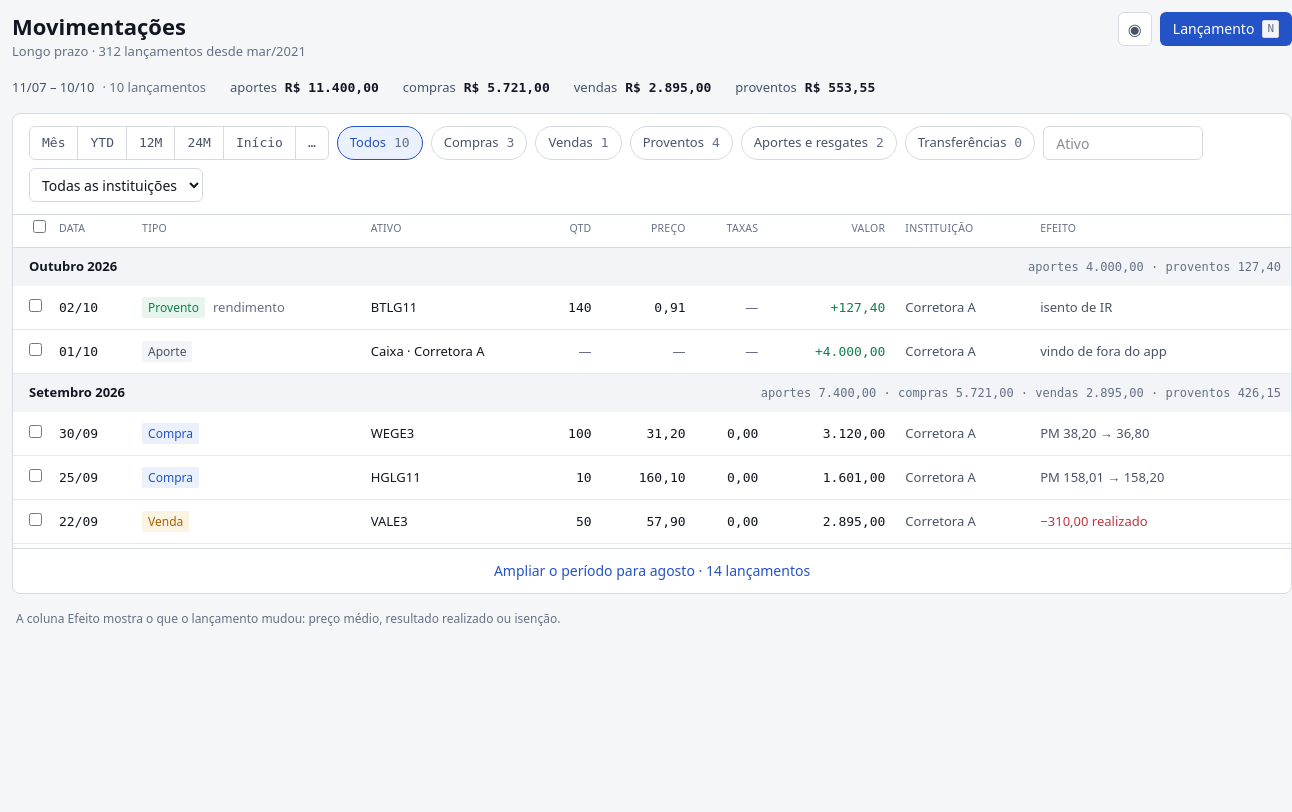
Test: tela de Movimentações › o cabeçalho marca e desmarca a página inteira
Check: the column heading "Outubro 2026" is shown, box [13,248,540,286]
Click the checkbox named "Selecionar todos os lançamentos da página" at (39, 226), box [32,220,46,233]
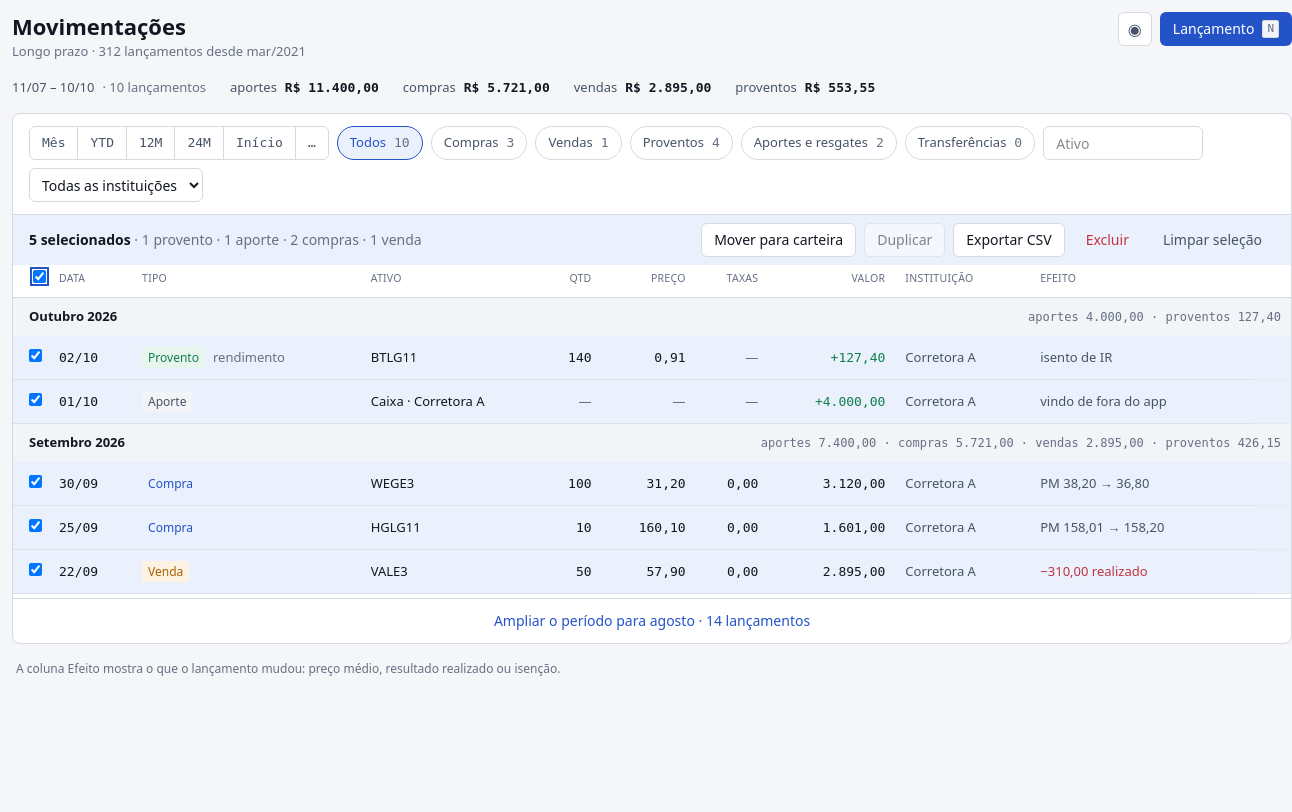
Check: the text "5 selecionados" is shown, box [29,230,131,249]
Click the checkbox named "Selecionar todos os lançamentos da página" at (39, 276), box [32,270,46,283]
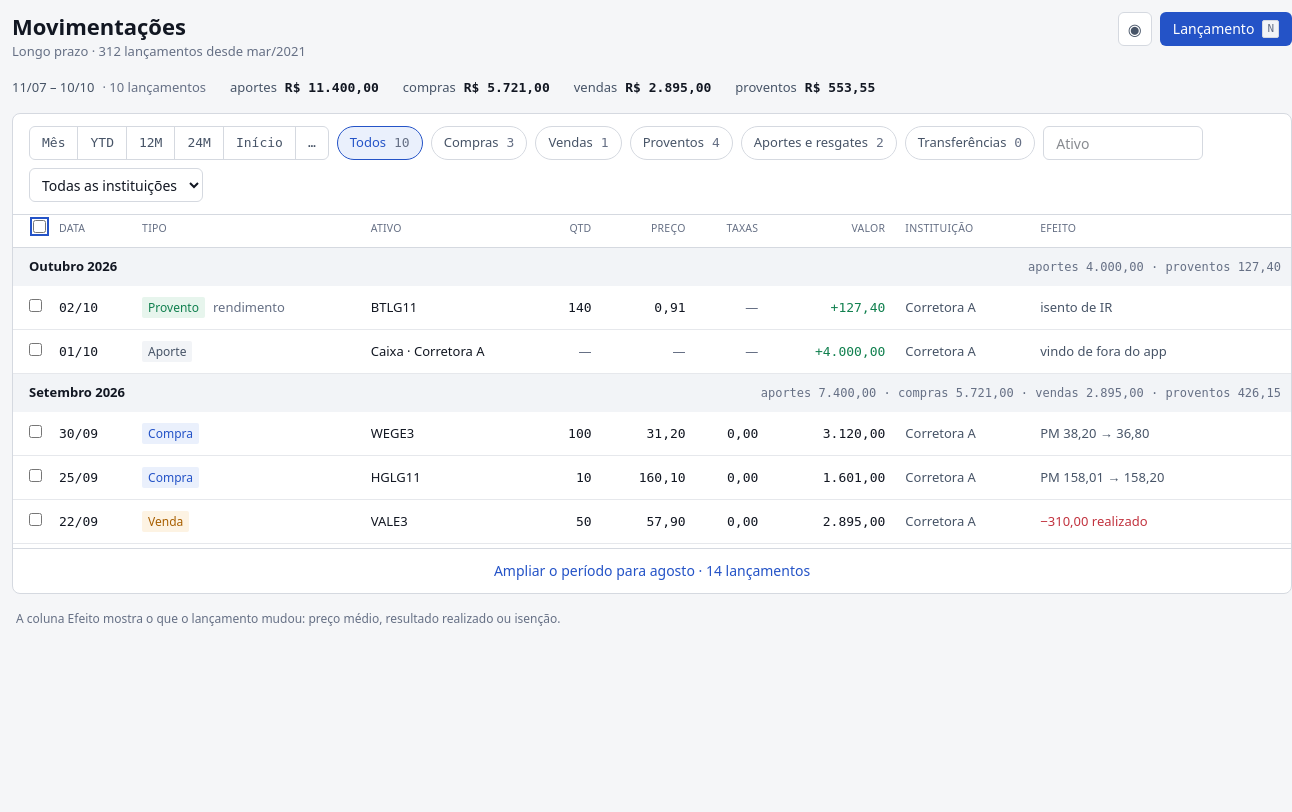
Check: the text "5 selecionados" is gone
